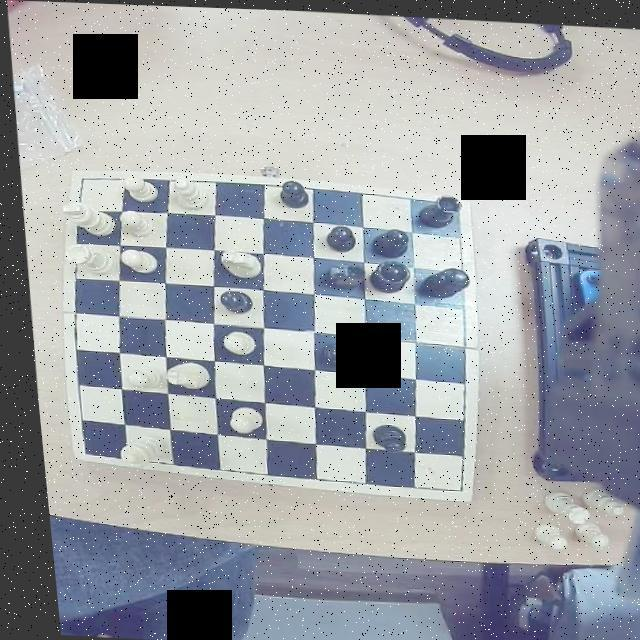chess-table-corners: (430, 464, 460, 496), (432, 193, 462, 224), (66, 433, 94, 462), (66, 170, 94, 194)
